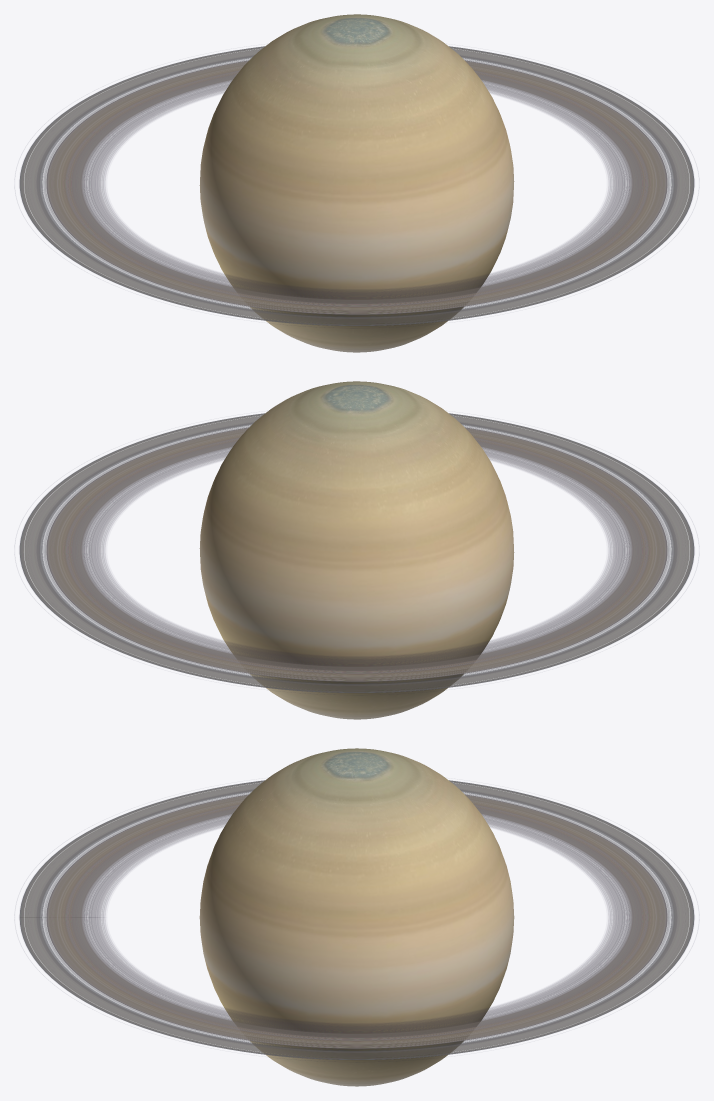
Rendered from saturn.glb.
3 views of the same model, one above another, from view 1: azimuth 30°, elevation 25°; view 2: azimuth 150°, elevation 25°; view 3: azimuth 270°, elevation 25° (orthographic).
Parts seen in each view (by area): view 1: Saturn; view 2: Saturn; view 3: Saturn.
Part boxes in pixels (x1,y1,x2,y2): Saturn: [19, 14, 694, 352]; Saturn: [19, 381, 694, 719]; Saturn: [19, 748, 694, 1086].
Size of the model in its own units: 4 by 2 by 4.
2 materials, 2 textured.
